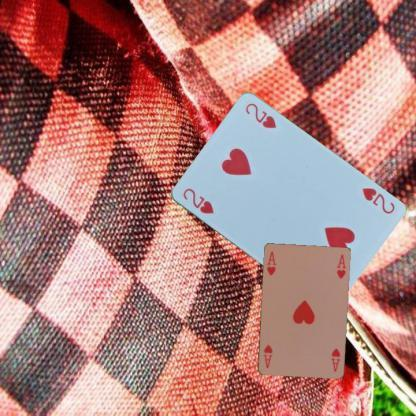2h: (359, 184, 396, 216), (180, 186, 215, 216)
Ah: (264, 249, 278, 277), (328, 346, 342, 373)
